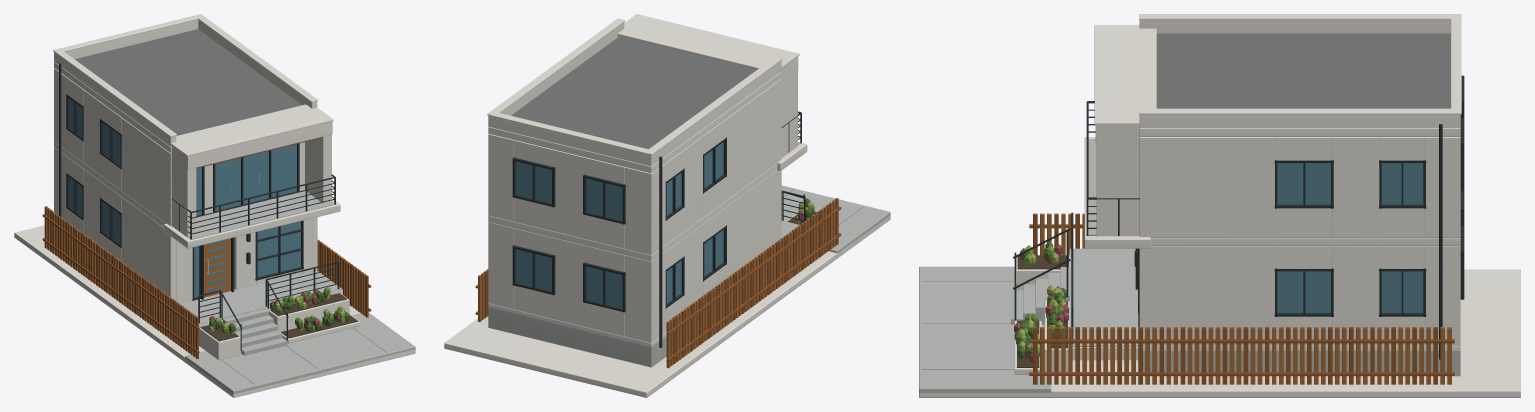
The model's file is reference-house.glb.
3 views of the same model, side by side, from view 1: azimuth 30°, elevation 25°; view 2: azimuth 150°, elevation 25°; view 3: azimuth 270°, elevation 25° (orthographic). The views are drawn at different scales.
Visible parts, largest first — view 1: Flat roof waterproof surface, Concrete driveway, Side stucco wall.007, House lot base, Upper sliding glass doors glazing, Side stucco wall, Portal front coping, Landing tiles, Balcony paving, Upper portal lintel, Living room window glazing, Upper portal side pier (+38 smaller); view 2: Flat roof waterproof surface, House lot base, Side stucco wall.007, Portal front coping, Side stucco wall, Foundation, Rear wall.010, Rear wall.003, Concrete driveway, Roof slab, First floor slab, Rear parapet (+41 smaller); view 3: Flat roof waterproof surface, House lot base, Side stucco wall.021, Concrete driveway, Side stucco wall.014, Portal front coping, Landing tiles, Side stucco wall.024, Roof parapet side.001, Upper portal side pier.001, Roof parapet side, Side stucco wall.017 (+29 smaller).
Part boxes in pixels (left/top/right/bottom): Flat roof waterproof surface: left=75, top=29, right=301, bottom=135; Concrete driveway: left=185, top=313, right=415, bottom=394; Side stucco wall.007: left=121, top=117, right=171, bottom=226; House lot base: left=14, top=225, right=415, bottom=397; Upper sliding glass doors glazing: left=215, top=144, right=296, bottom=211; Side stucco wall: left=121, top=197, right=176, bottom=301; Portal front coping: left=171, top=104, right=333, bottom=156; Landing tiles: left=180, top=270, right=342, bottom=324; Balcony paving: left=188, top=191, right=334, bottom=239; Upper portal lintel: left=171, top=121, right=332, bottom=169; Living room window glazing: left=257, top=221, right=300, bottom=277; Upper portal side pier: left=171, top=150, right=196, bottom=237; Flat roof waterproof surface: left=511, top=37, right=755, bottom=149; House lot base: left=444, top=215, right=890, bottom=397; Side stucco wall.007: left=726, top=79, right=781, bottom=200; Portal front coping: left=617, top=14, right=799, bottom=69; Side stucco wall: left=726, top=170, right=781, bottom=278; Foundation: left=488, top=307, right=666, bottom=367; Rear wall.010: left=554, top=150, right=585, bottom=238; Rear wall.003: left=554, top=238, right=585, bottom=326; Concrete driveway: left=781, top=185, right=890, bottom=253; Roof slab: left=488, top=72, right=781, bottom=173; First floor slab: left=488, top=164, right=777, bottom=261; Rear parapet: left=491, top=116, right=648, bottom=165; Flat roof waterproof surface: left=1156, top=33, right=1450, bottom=108; House lot base: left=919, top=269, right=1520, bottom=397; Side stucco wall.021: left=1139, top=137, right=1276, bottom=237; Concrete driveway: left=919, top=266, right=1051, bottom=392; Side stucco wall.014: left=1139, top=246, right=1276, bottom=346; Portal front coping: left=1094, top=25, right=1156, bottom=124; Landing tiles: left=1070, top=248, right=1138, bottom=346; Side stucco wall.024: left=1332, top=137, right=1380, bottom=237; Roof parapet side.001: left=1139, top=114, right=1460, bottom=128; Upper portal side pier.001: left=1096, top=130, right=1139, bottom=236; Roof parapet side: left=1139, top=20, right=1450, bottom=33; Side stucco wall.017: left=1332, top=246, right=1380, bottom=346.
Bounding box in the file's own units: 7.2 × 7.53 × 15.
